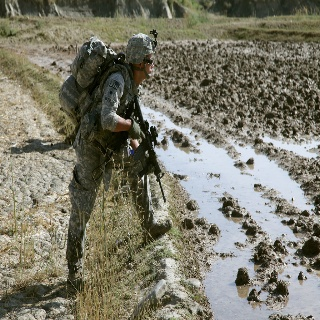rifle: (108, 94, 168, 204)
